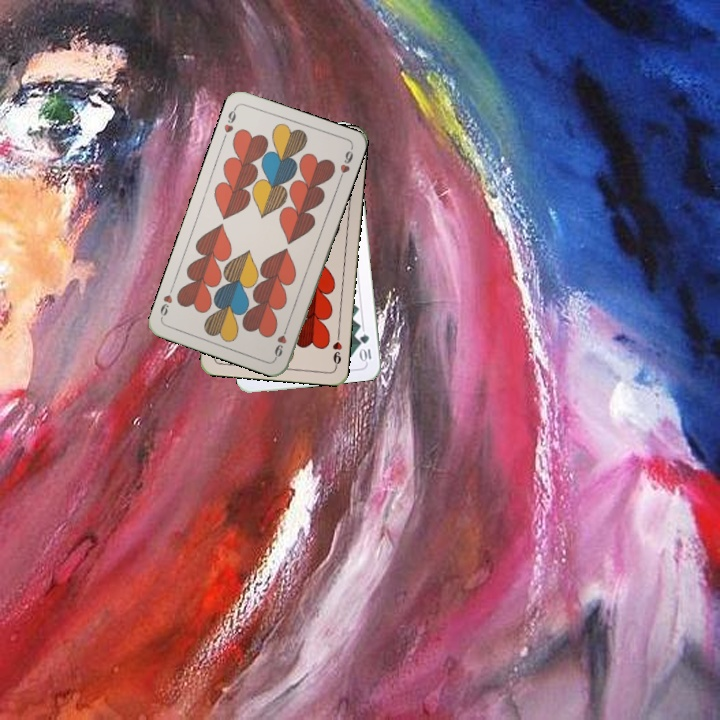G10: (356, 330, 374, 364)
H9: (270, 322, 291, 361), (219, 103, 239, 143), (329, 329, 345, 369)
